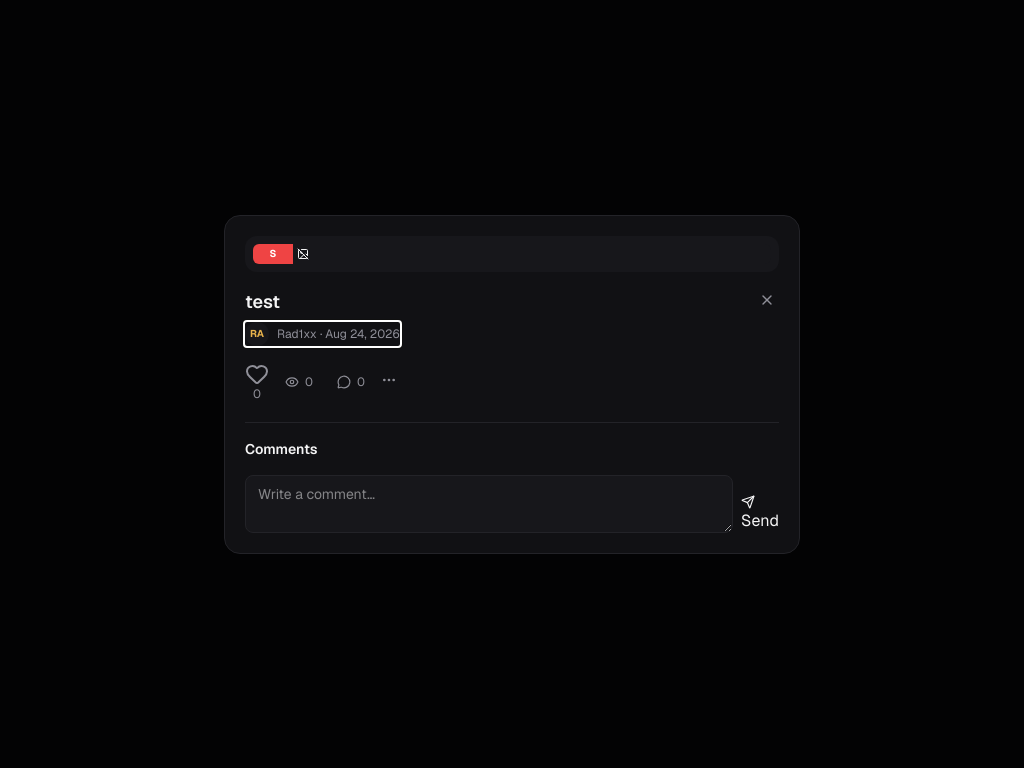
taking a post back out of the feed › is offered to the author
This screenshot has width=1024, height=768.
Click the button named "more post actions" at [389, 380], box x1=381 y1=372 x2=397 y2=388
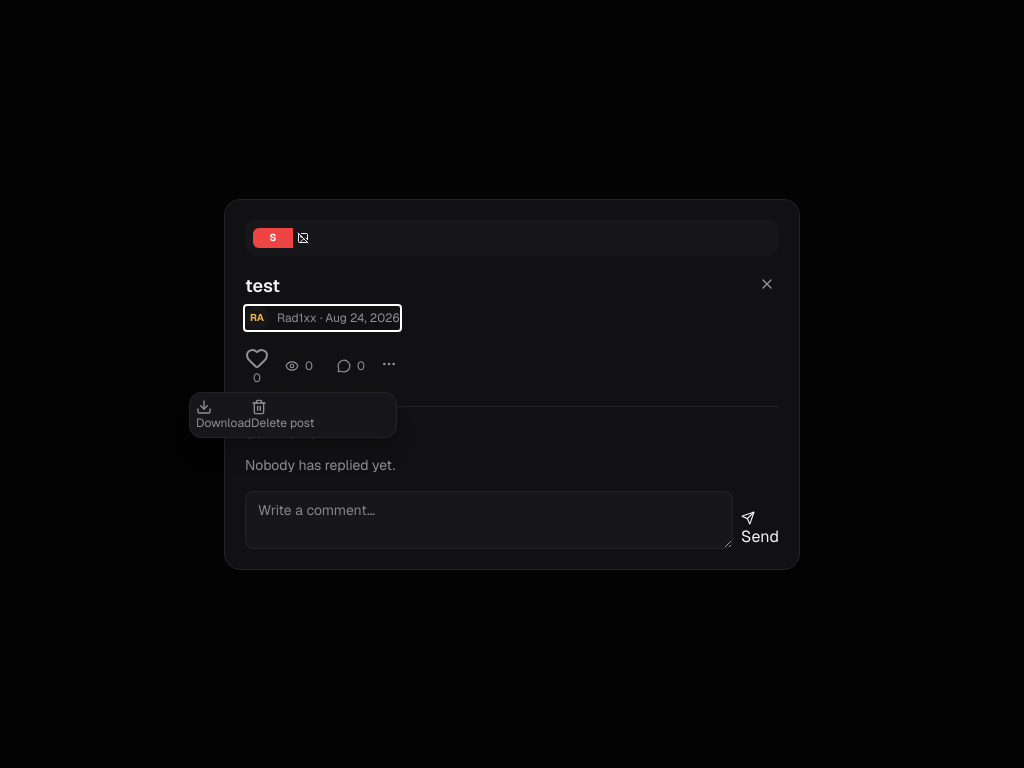
Now the menu item "Delete post" is shown, box x1=251 y1=398 x2=314 y2=430
